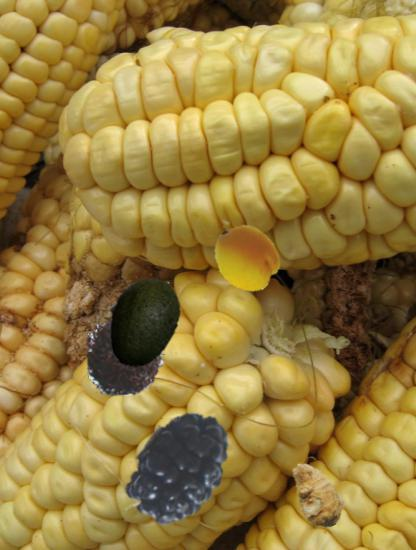Avocado: (95, 274, 190, 369)
Ginger: (281, 459, 352, 530)
Mulberry: (124, 410, 258, 544)
Peach: (212, 223, 282, 293)
Rambutan: (78, 300, 175, 397)
